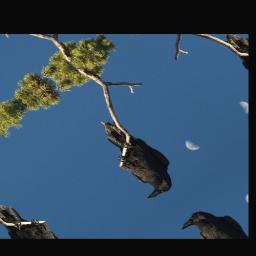Crow: (77, 109, 188, 204)
